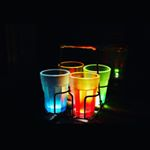cups: (67, 72, 104, 121), (36, 67, 71, 116), (83, 62, 114, 110)
